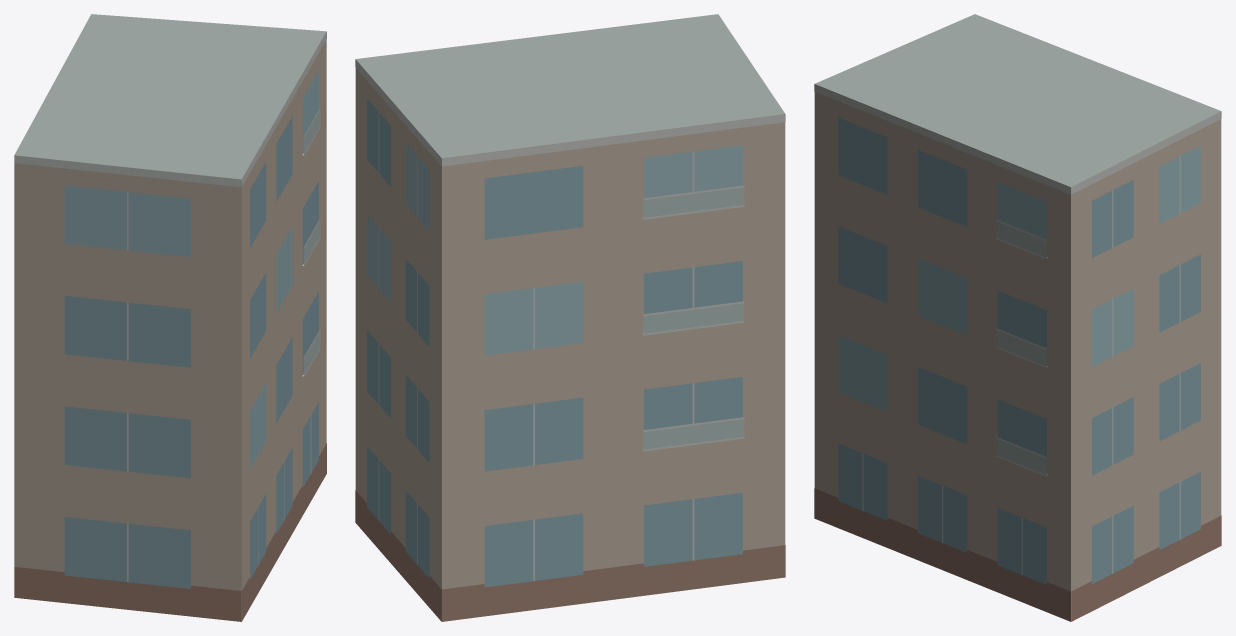
File: survey-upis-32989149.glb
3 renders of one model, left to right at view 1: azimuth 30°, elevation 25°; view 2: azimuth 150°, elevation 25°; view 3: azimuth 270°, elevation 25°, orthographic. The views are drawn at different scales.
Parts seen in each view (by area): view 1: survey-upis-32989149.tmp; view 2: survey-upis-32989149.tmp; view 3: survey-upis-32989149.tmp.
Boxes of the visible parts, left/top/right/bottom form: survey-upis-32989149.tmp: left=14, top=14, right=326, bottom=621; survey-upis-32989149.tmp: left=355, top=14, right=785, bottom=621; survey-upis-32989149.tmp: left=814, top=14, right=1221, bottom=621.
Bounding box in the file's own units: 11.81 × 13.8 × 11.72.
